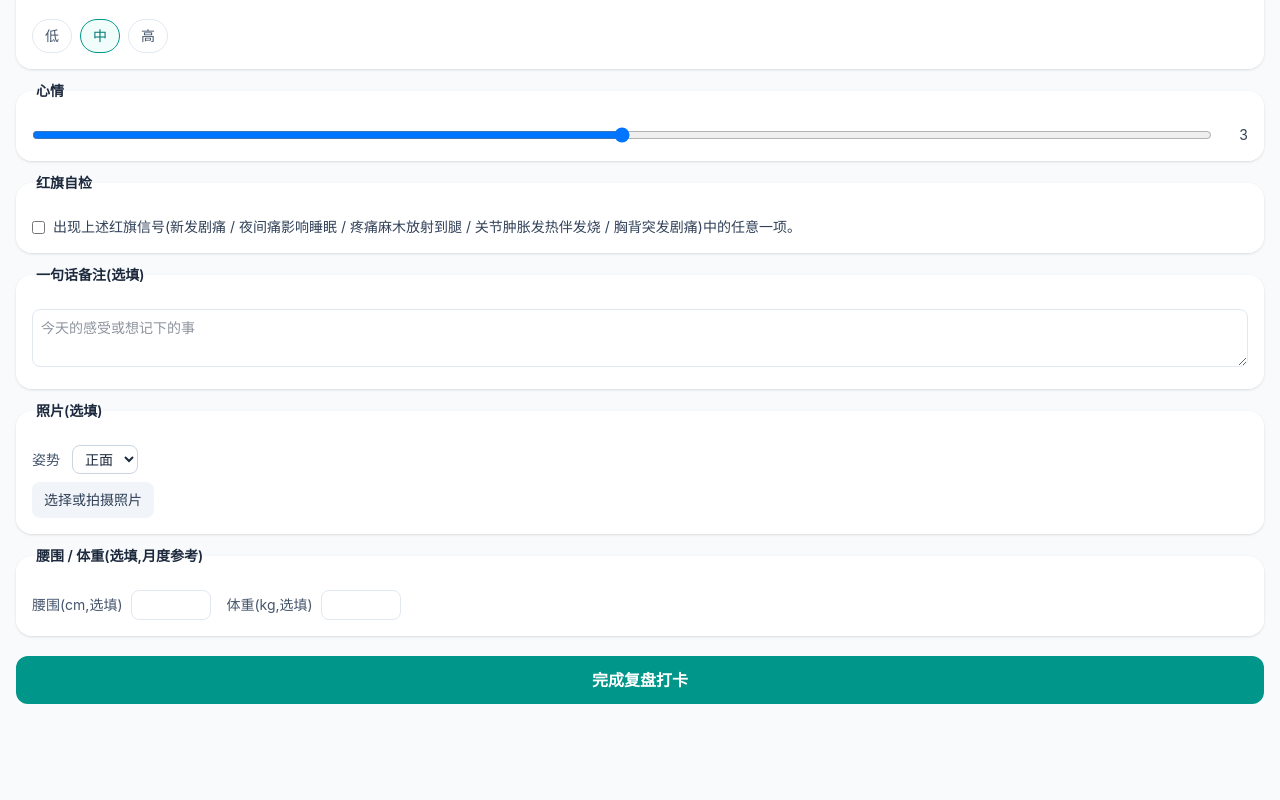
CheckInPage › 完成打卡后今日动作完成次数 +1
(page scrolled)
Click the button "完成复盘打卡": point(640, 680) [16,656,1264,704]
(page scrolled)
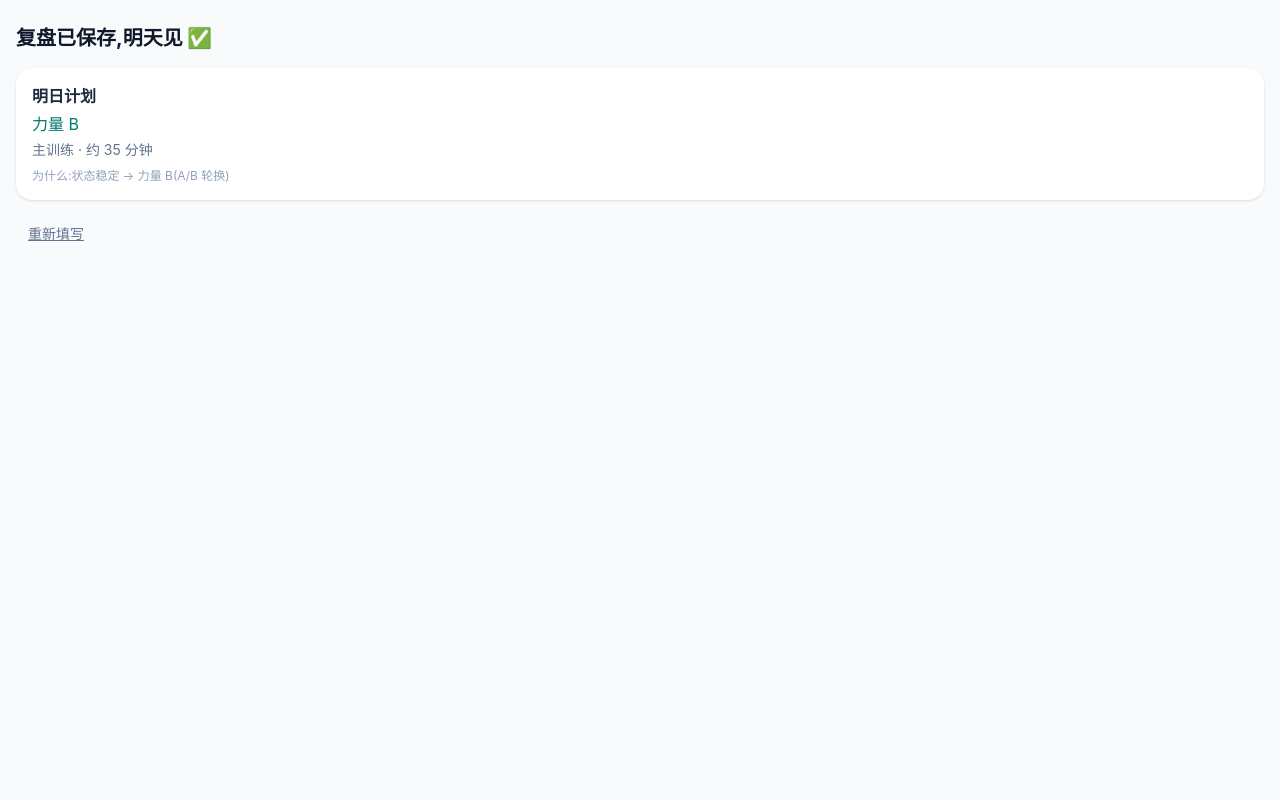
Result: the heading "明日计划" is shown at [32,86,96,106]
